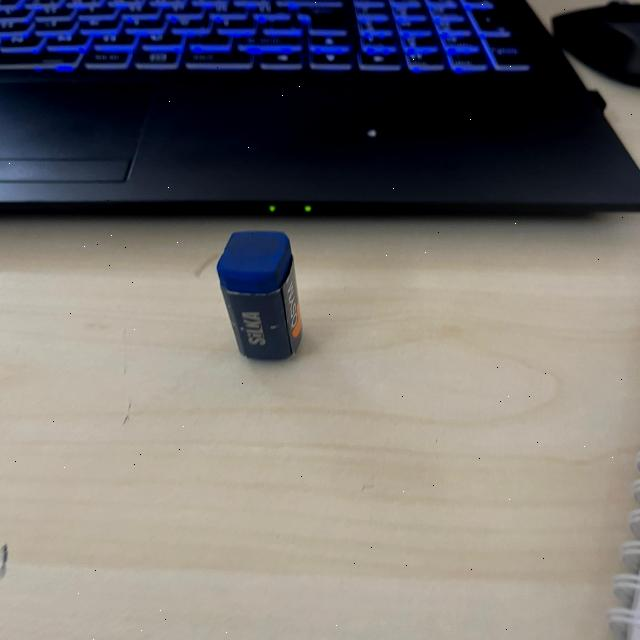eraser: (209, 221, 320, 364)
